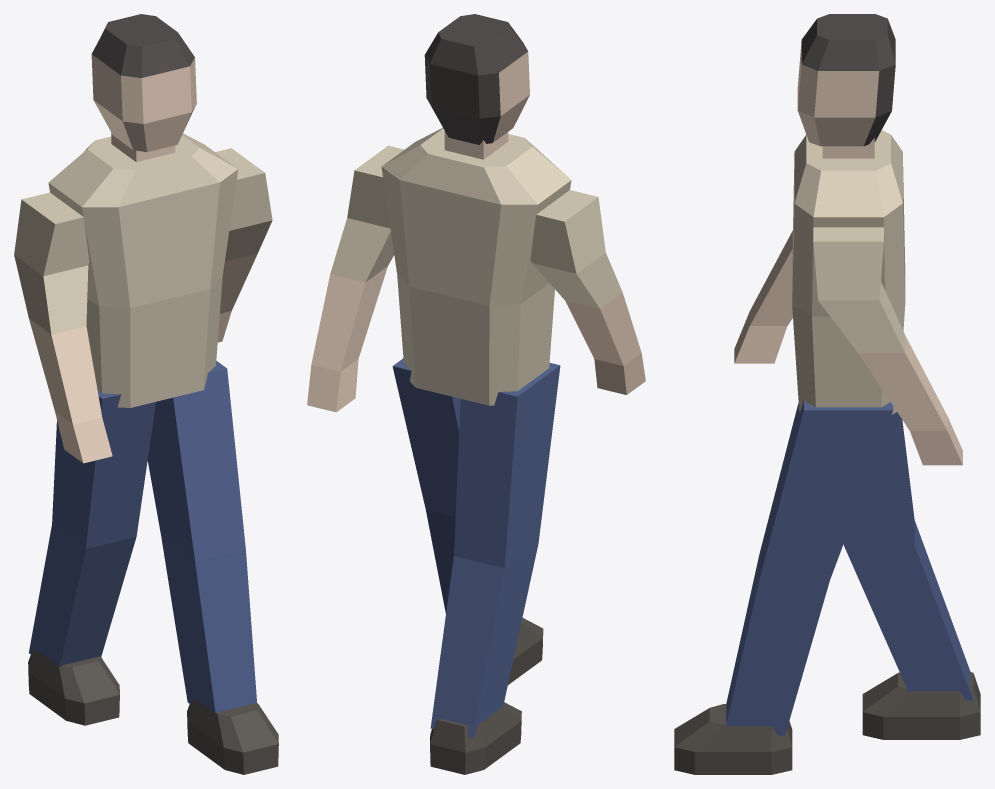
File: pedestrian_4_left.fbx
The picture shows the model from 3 angles, left to right: view 1: azimuth 30°, elevation 25°; view 2: azimuth 150°, elevation 25°; view 3: azimuth 270°, elevation 25°; orthographic projection. The views are drawn at different scales.
Parts seen in each view (by area): view 1: pedestrian_4_left; view 2: pedestrian_4_left; view 3: pedestrian_4_left.
Part boxes in pixels (box(x1,y1,x2,y2)): pedestrian_4_left: box(14, 14, 278, 774); pedestrian_4_left: box(307, 14, 645, 774); pedestrian_4_left: box(674, 14, 980, 774).
Size of the model in its own units: 0.61 by 1.68 by 0.65.
